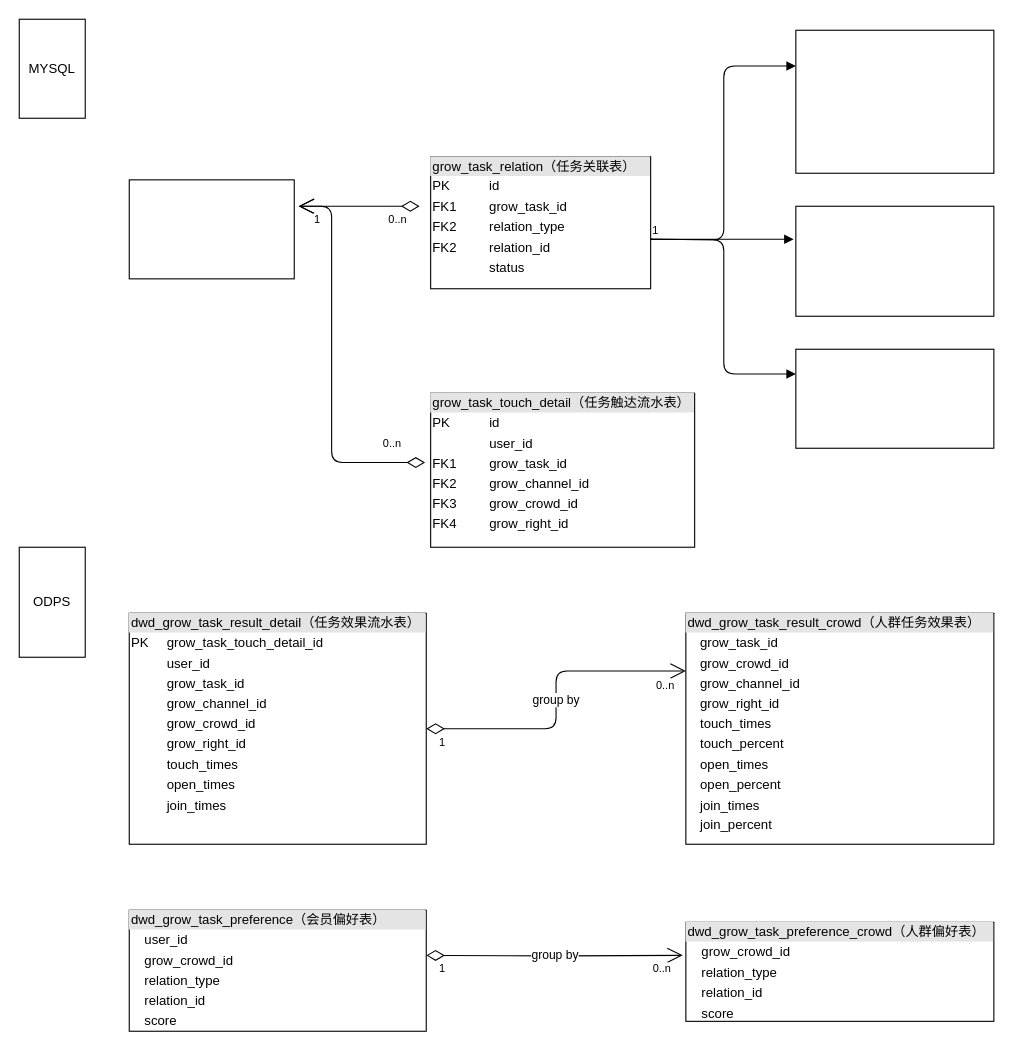
This 1013x1051 diagram has some shape labels left out. The centre of each missing label's shape, as x and y in pixels:
grow_channel（渠道表） PK id name type status: the point at 894,398
grow_crowd（人群表） PK id FK1 crowd_id name status: the point at 894,260
grow_right（权益表） PK id name FK1 relation_type FK1 relation_id type status: the point at 894,101
grow_task（任务表） PK id name type status: the point at 211,229
